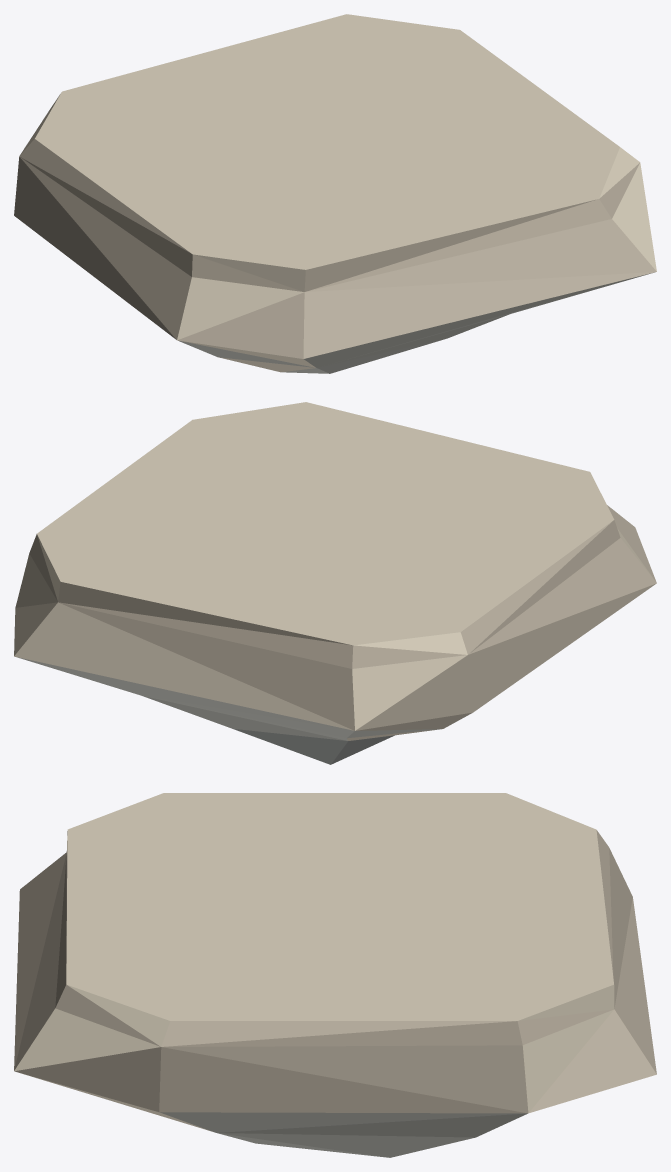
File: Plataforma1.fbx
The picture shows the model from 3 angles, top to bottom: view 1: azimuth 30°, elevation 25°; view 2: azimuth 150°, elevation 25°; view 3: azimuth 270°, elevation 25°; orthographic projection. The views are drawn at different scales.
Parts seen in each view (by area): view 1: PlataformaPedra_02; view 2: PlataformaPedra_02; view 3: PlataformaPedra_02.
Part boxes in pixels (x1=…): PlataformaPedra_02: x1=14, y1=14, x2=656, y2=373; PlataformaPedra_02: x1=14, y1=402, x2=656, y2=764; PlataformaPedra_02: x1=14, y1=793, x2=656, y2=1157.
Size of the model in its own units: 735 by 342 by 787.
